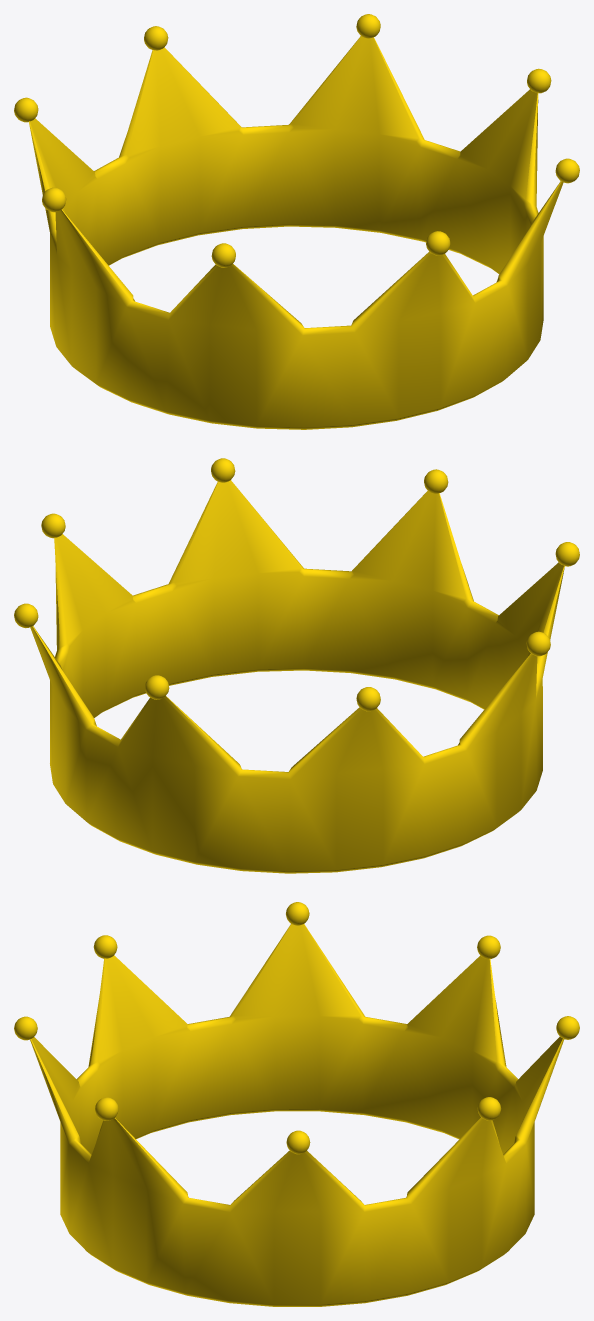
File: crown.glb
3 renders of one model, top to bottom at view 1: azimuth 30°, elevation 25°; view 2: azimuth 150°, elevation 25°; view 3: azimuth 270°, elevation 25°, orthographic. The views are drawn at different scales.
Parts seen in each view (by area): view 1: TextureAtlas2_mergedObject; view 2: TextureAtlas2_mergedObject; view 3: TextureAtlas2_mergedObject.
Boxes of the visible parts, box(x1,y1,x2,y2) form: TextureAtlas2_mergedObject: box(14, 14, 579, 429); TextureAtlas2_mergedObject: box(14, 458, 579, 873); TextureAtlas2_mergedObject: box(14, 902, 579, 1306).
Bounding box in the file's own units: 2.37 × 0.8856 × 2.37.
